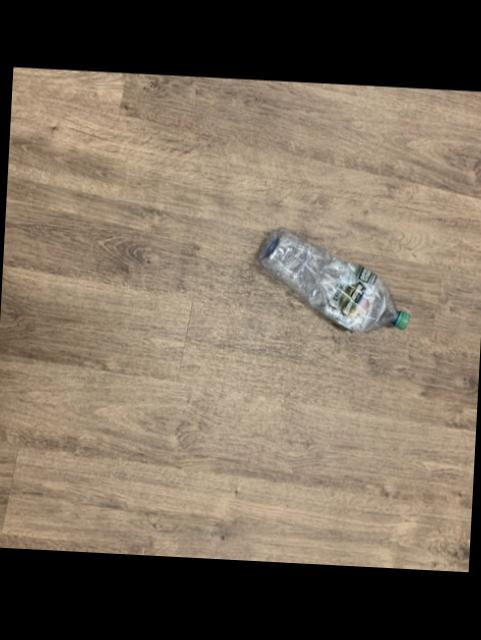plastic: (260, 230, 410, 334)
